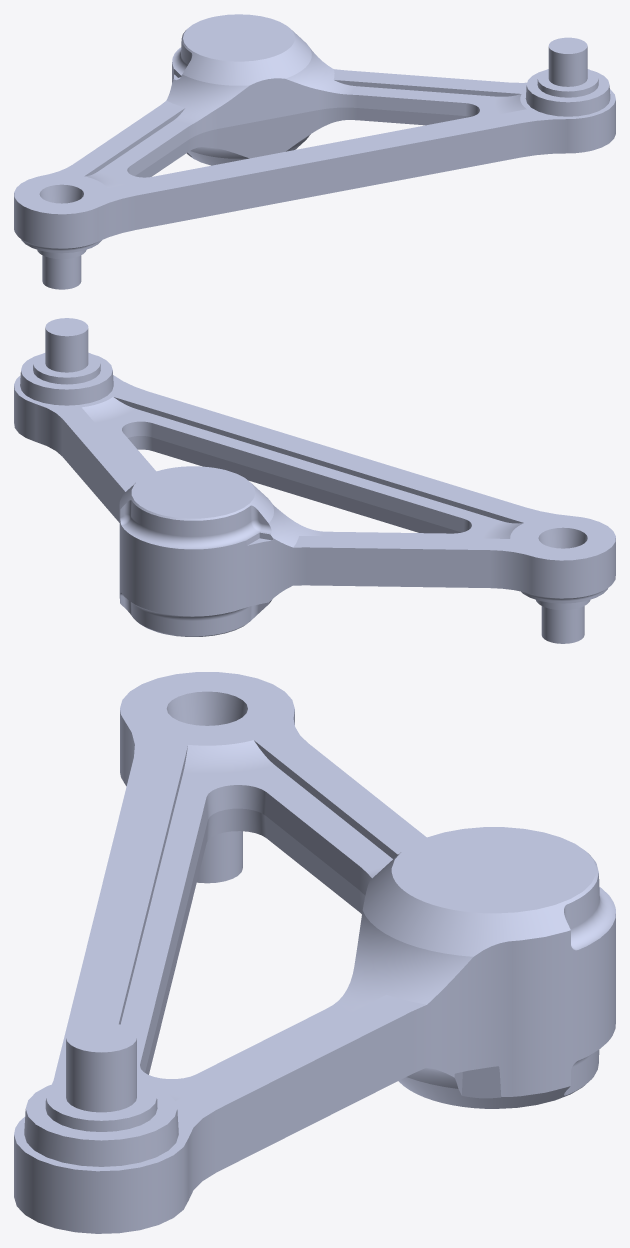
File: IRB460_LINK_PLATE.glb
3 renders of one model, top to bottom at view 1: azimuth 30°, elevation 25°; view 2: azimuth 150°, elevation 25°; view 3: azimuth 270°, elevation 25°, orthographic. The views are drawn at different scales.
Parts seen in each view (by area): view 1: IRB460_LINK_PLATE; view 2: IRB460_LINK_PLATE; view 3: IRB460_LINK_PLATE.
Boxes of the visible parts, x1,y1,x2,y2 form: IRB460_LINK_PLATE: (14, 14, 615, 289); IRB460_LINK_PLATE: (14, 318, 615, 643); IRB460_LINK_PLATE: (14, 672, 615, 1233).
Size of the model in its own units: 0.5806 by 0.139 by 0.2957.
